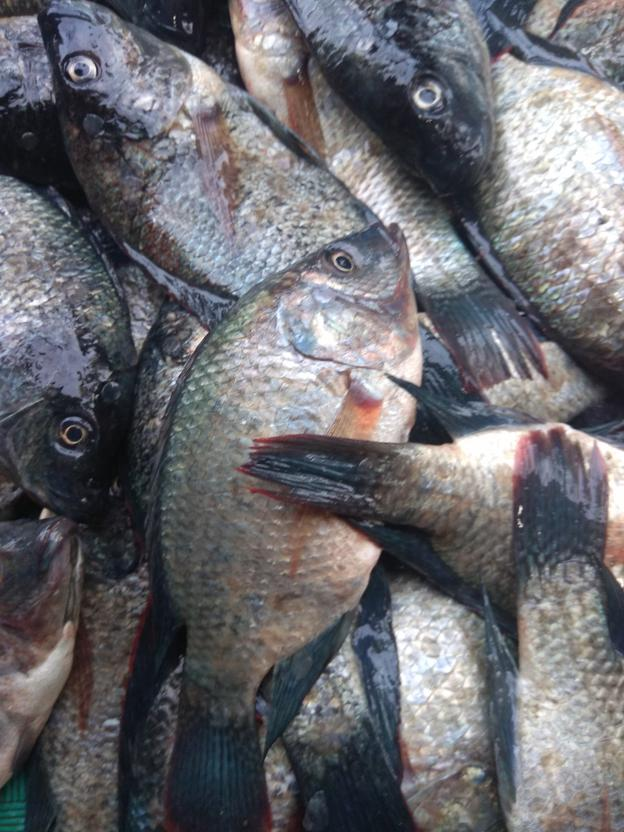Fish head: (2, 334, 139, 520), (340, 9, 496, 170), (266, 221, 424, 373), (34, 1, 195, 147), (1, 517, 84, 676)
Fish tail: (417, 264, 553, 387), (506, 425, 610, 583), (237, 433, 414, 521), (165, 693, 273, 829)
